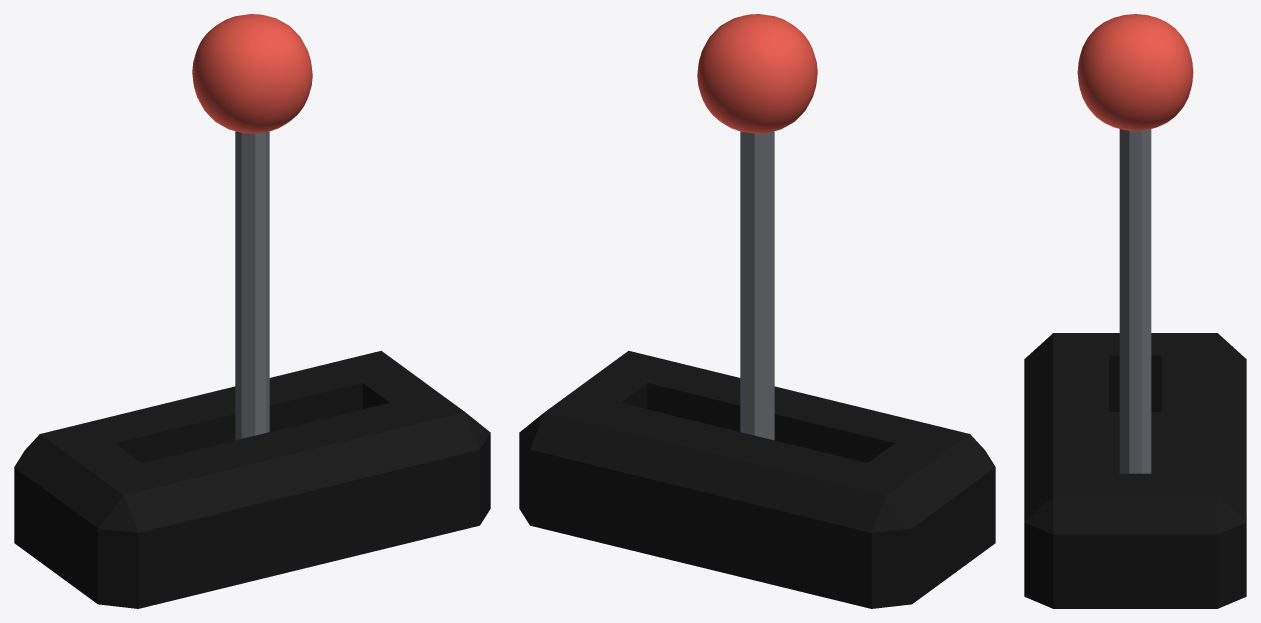
File: lever.fbx
3 renders of one model, left to right at view 1: azimuth 30°, elevation 25°; view 2: azimuth 150°, elevation 25°; view 3: azimuth 270°, elevation 25°, orthographic. The views are drawn at different scales.
Visible parts, largest first — view 1: Lever, Handle; view 2: Lever, Handle; view 3: Lever, Handle.
Boxes of the visible parts, box(x1,y1,x2,y2) form: Lever: box(14, 350, 490, 608); Handle: box(192, 14, 312, 440); Lever: box(519, 350, 995, 608); Handle: box(697, 14, 817, 440); Lever: box(1024, 333, 1246, 608); Handle: box(1077, 14, 1193, 473).
Bounding box in the file's own units: 400 × 492 × 200.
